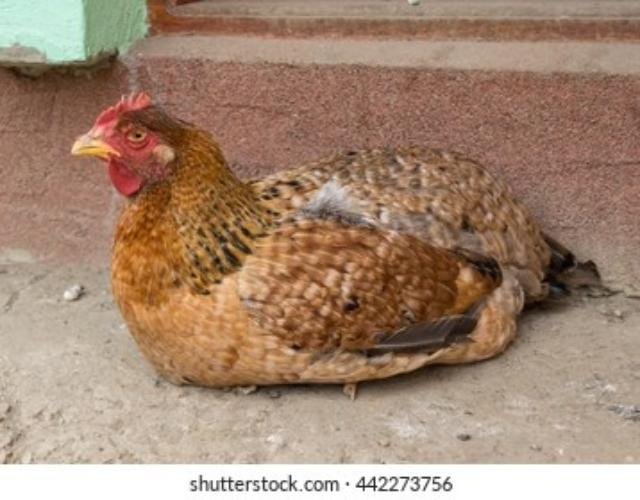Chicken: (69, 92, 603, 398)
